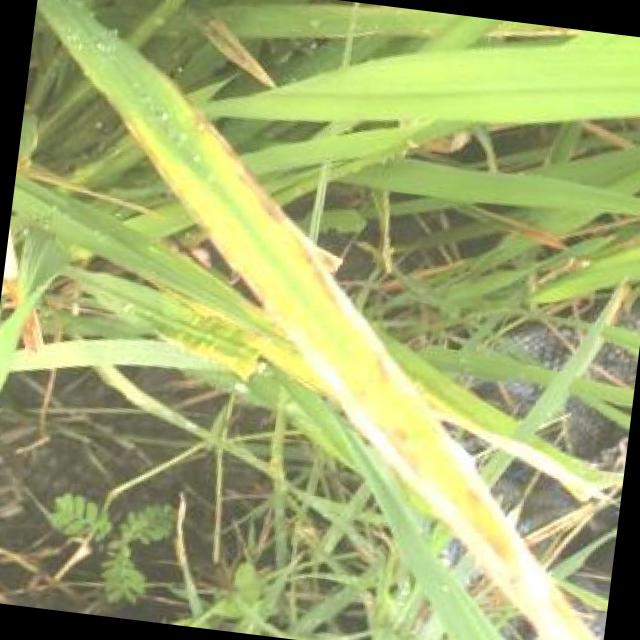Rice_Bacterial_Blight: (236, 218, 456, 482)
